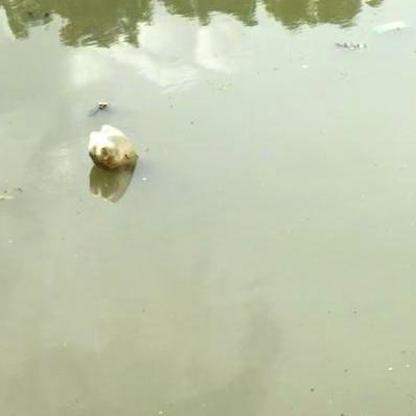plastic bottle: (86, 123, 135, 168)
